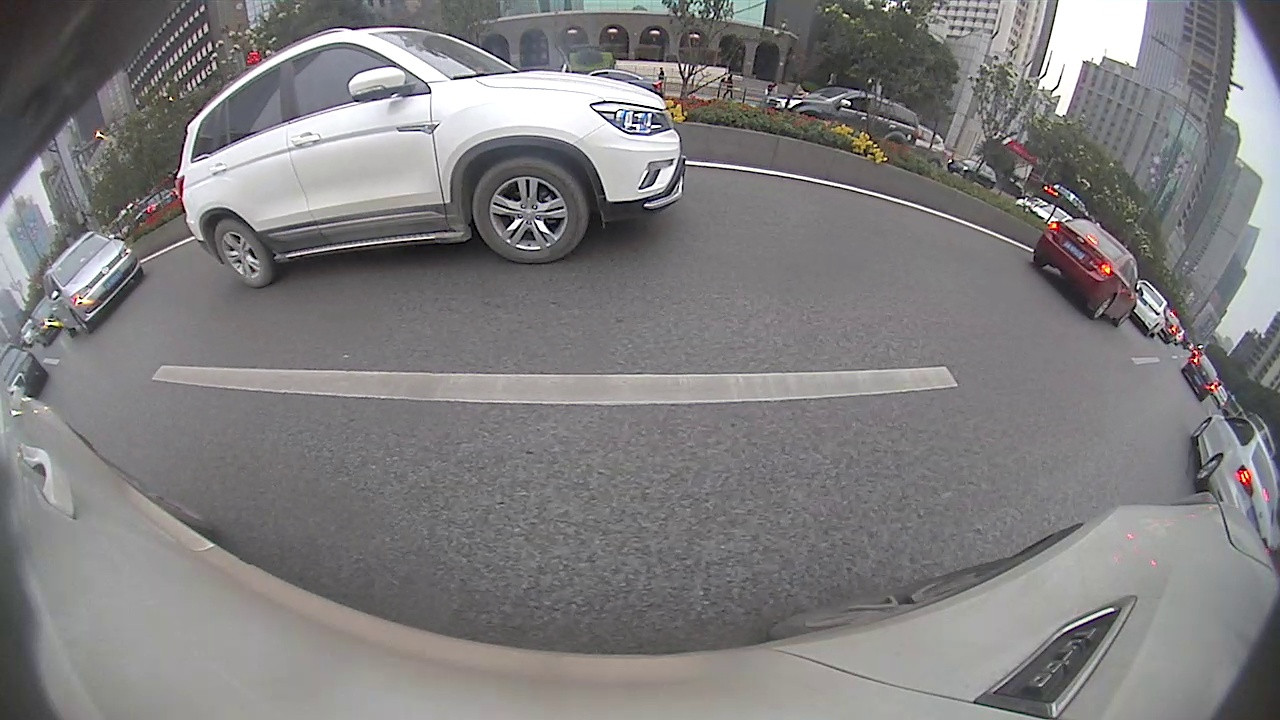bus: (659, 129, 727, 186)
car: (1030, 231, 1279, 411), (831, 165, 941, 228), (971, 206, 1093, 256), (758, 162, 818, 193), (575, 162, 605, 185)
front: (1042, 248, 1080, 292), (978, 216, 1000, 243), (832, 187, 847, 208)
rear: (1201, 349, 1250, 409), (878, 196, 898, 218)
